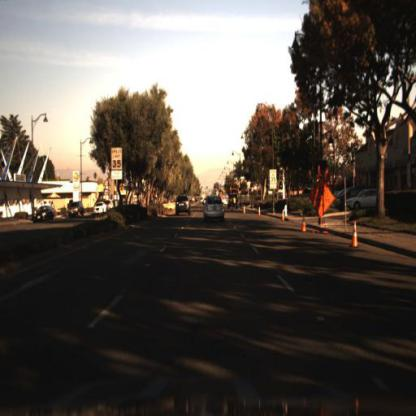car: (344, 187, 383, 218), (344, 187, 378, 210), (204, 194, 226, 223), (32, 202, 54, 228), (176, 193, 195, 220), (67, 195, 86, 221), (69, 199, 88, 219), (93, 198, 107, 216)
pedestrian: (233, 196, 237, 210)
trafficLight: (229, 184, 243, 197)
